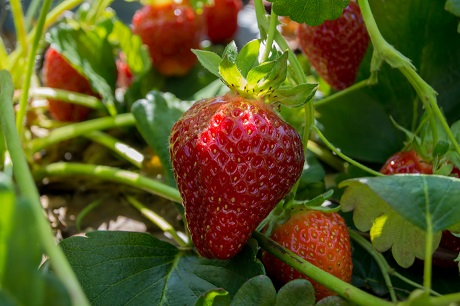ripe: (165, 90, 305, 262), (256, 193, 356, 304), (40, 30, 114, 125), (297, 10, 374, 91), (130, 8, 206, 78), (380, 147, 459, 213), (192, 9, 244, 46)
